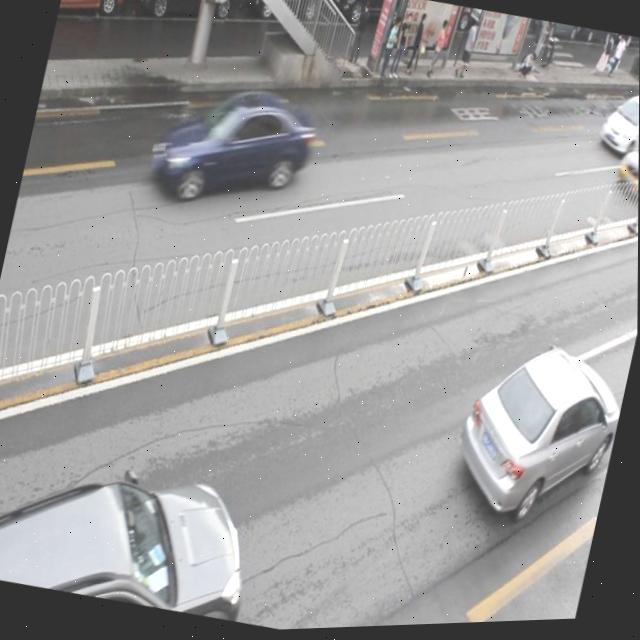car: (0, 429, 263, 629), (445, 329, 632, 537), (147, 75, 321, 223), (129, 0, 243, 32), (594, 89, 639, 168), (324, 0, 406, 37), (610, 131, 639, 210), (243, 0, 326, 26), (58, 0, 133, 23)
